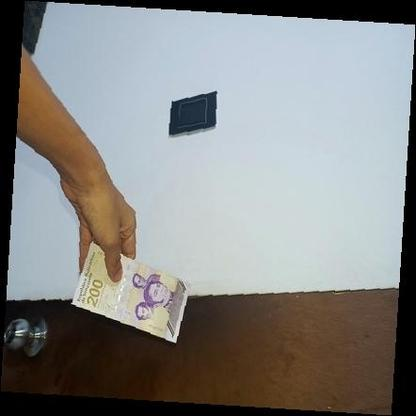two_hundred-front-vef: (69, 242, 191, 344)
